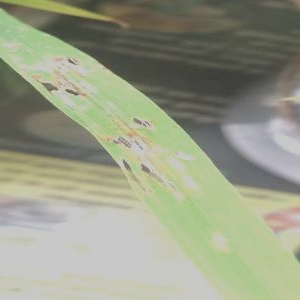Brown_Spot: (104, 158, 150, 198), (125, 105, 159, 138), (31, 75, 62, 109), (202, 233, 234, 262), (164, 144, 194, 169), (60, 78, 89, 101), (51, 51, 80, 72)
